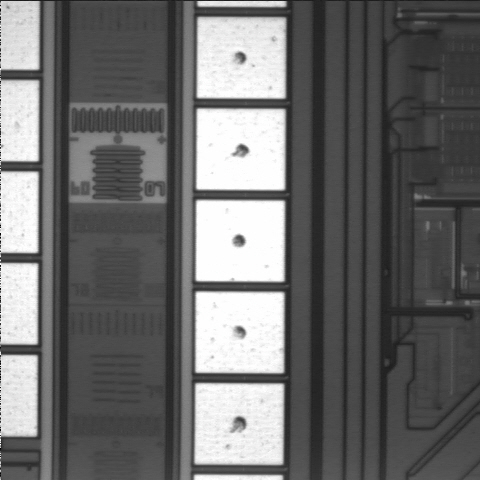pad: (197, 17, 286, 99), (196, 200, 285, 282), (195, 383, 284, 465), (196, 109, 285, 190), (195, 292, 284, 373)
